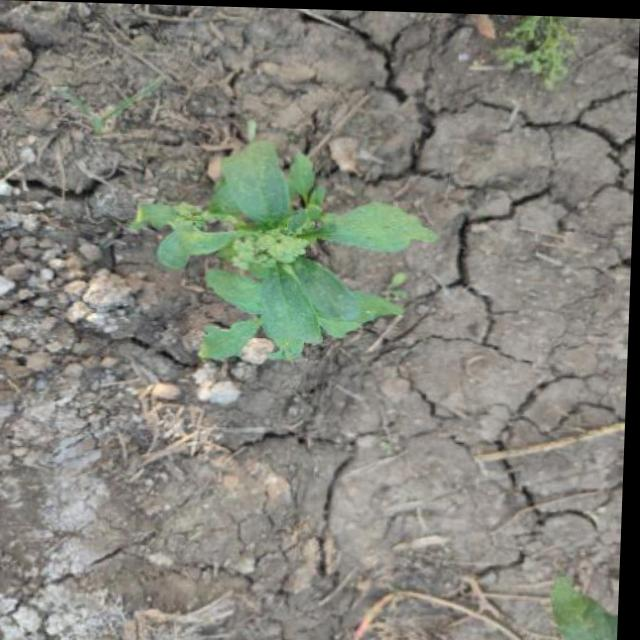weed: (141, 131, 440, 355)
